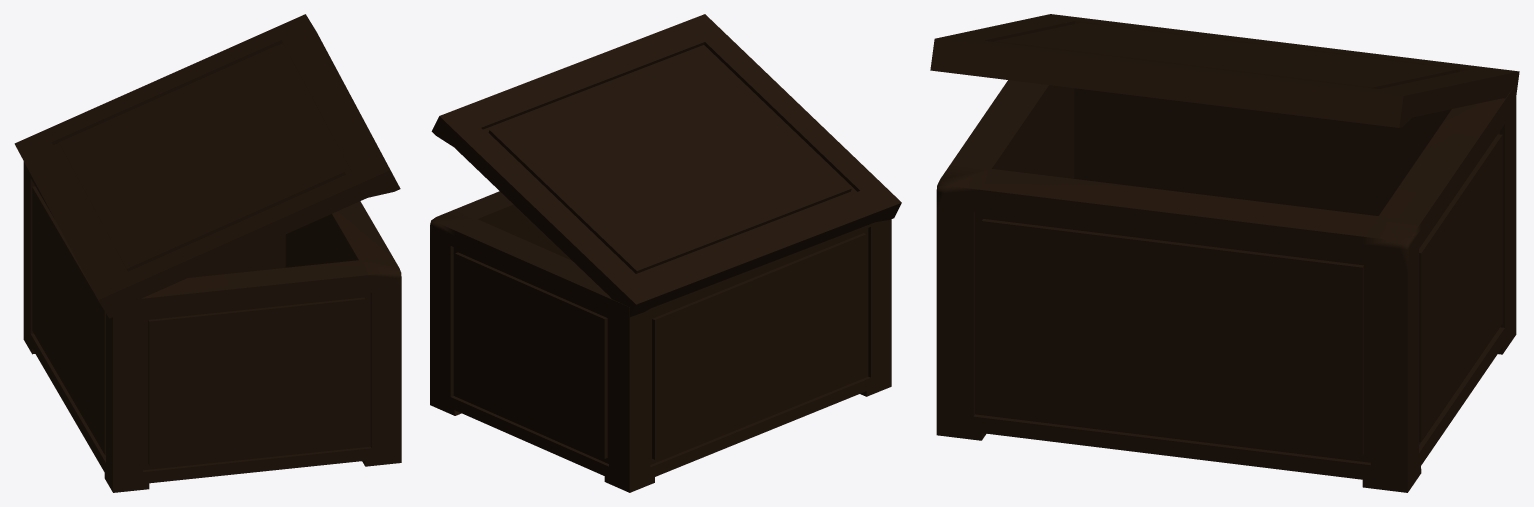
File: Enviro_ToyChest_001.fbx
3 renders of one model, left to right at view 1: azimuth 30°, elevation 25°; view 2: azimuth 150°, elevation 25°; view 3: azimuth 270°, elevation 25°, orthographic. The views are drawn at different scales.
Parts seen in each view (by area): view 1: polySurface45, polySurface44; view 2: polySurface45, polySurface44; view 3: polySurface45, polySurface44.
Part boxes in pixels (left/top/right/bottom): polySurface45: left=23, top=161, right=401, bottom=492; polySurface44: left=14, top=14, right=400, bottom=318; polySurface45: left=430, top=191, right=891, bottom=492; polySurface44: left=431, top=14, right=901, bottom=317; polySurface45: left=936, top=80, right=1516, bottom=492; polySurface44: left=930, top=14, right=1519, bottom=127.
Bounding box in the file's own units: 3004 × 2437 × 3323.
